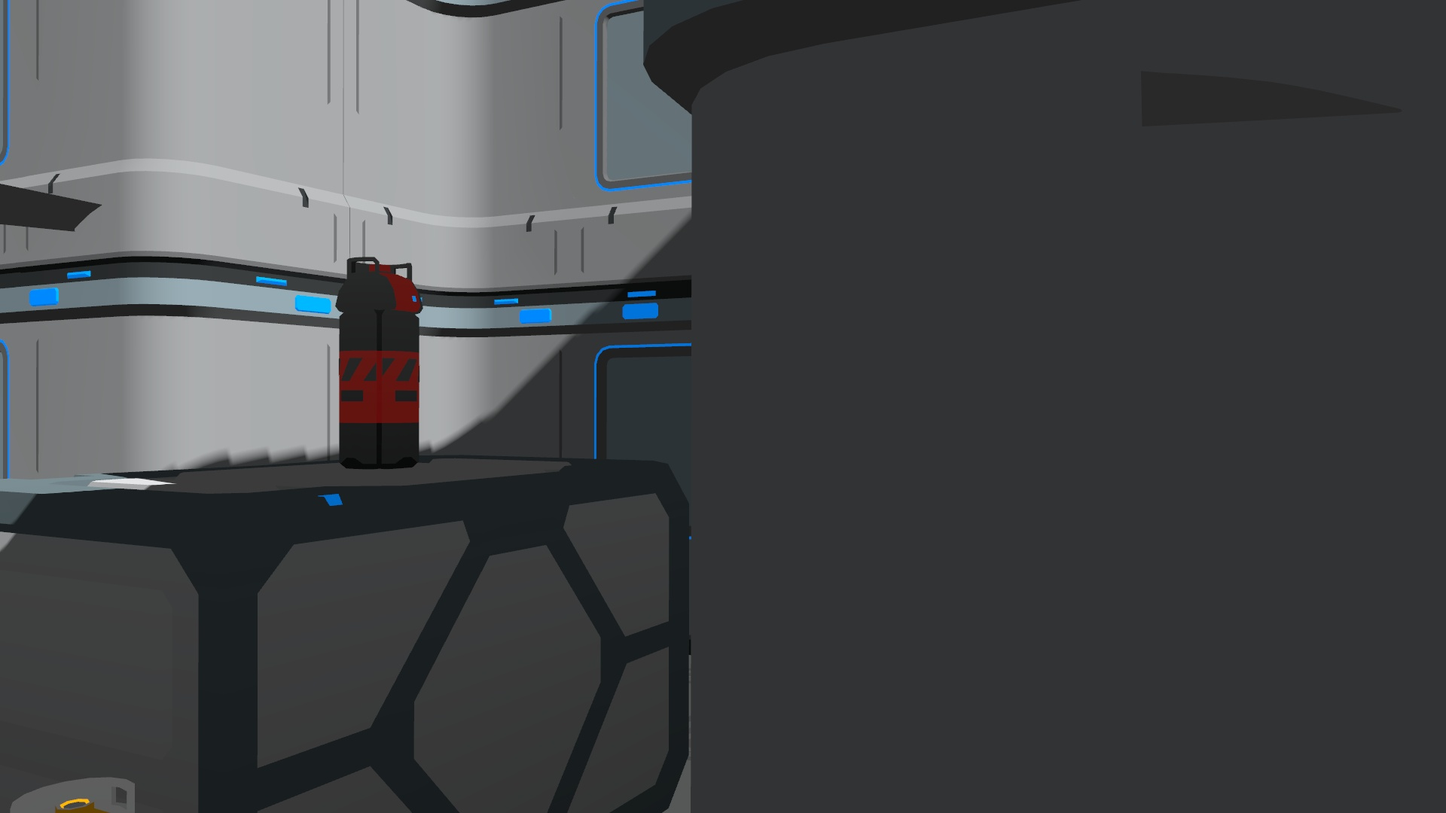red_barrel: (333, 250, 429, 473)
yellow_barrel: (13, 777, 141, 813)
